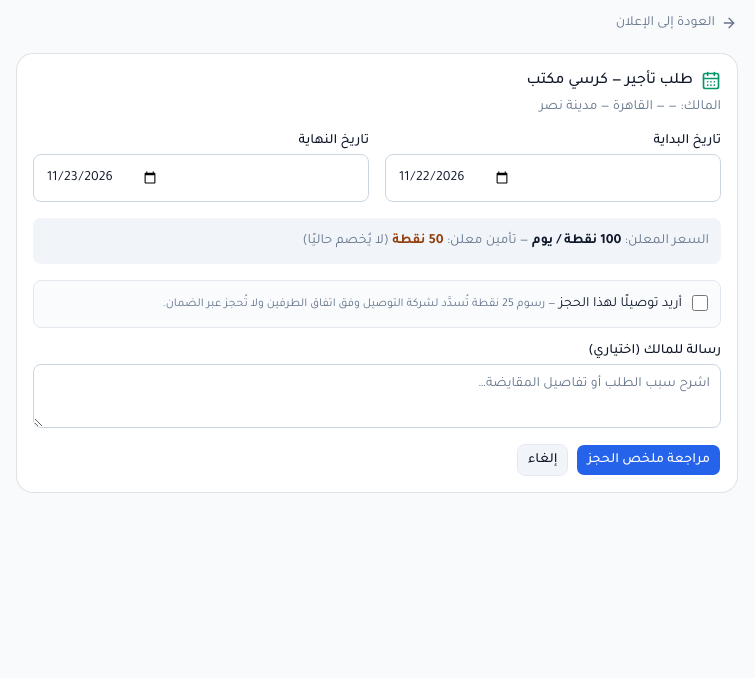
Test case: A6 delivery in the booking flow (SRS §9.2 · 0033) › requires an address before the summary opens when delivery is checked
This screenshot has width=755, height=678.
Expected: the text "تاريخ البداية" is shown, left=654, top=134, right=721, bottom=148
Click the checkbox labelled "أريد توصيلًا لهذا الحجز" at (700, 303), box left=692, top=295, right=708, bottom=311
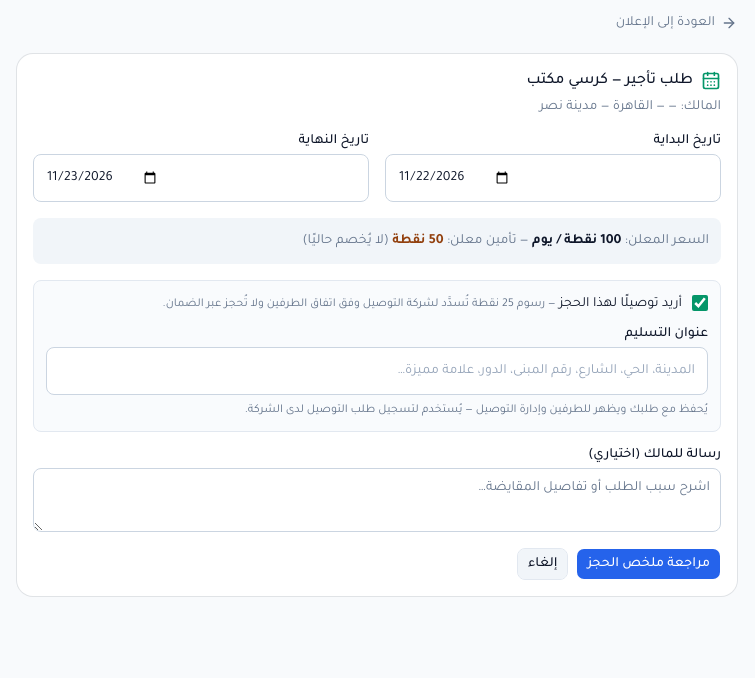
Submit the form, box left=33, top=134, right=721, bottom=580
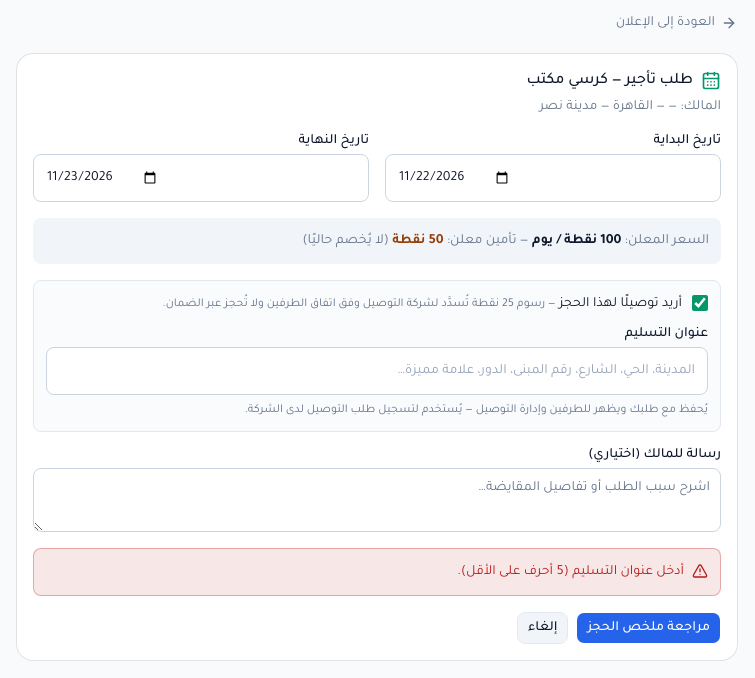
Result: the message reads "أدخل عنوان التسليم (5 أحرف على الأقل)." at left=457, top=565, right=684, bottom=579
